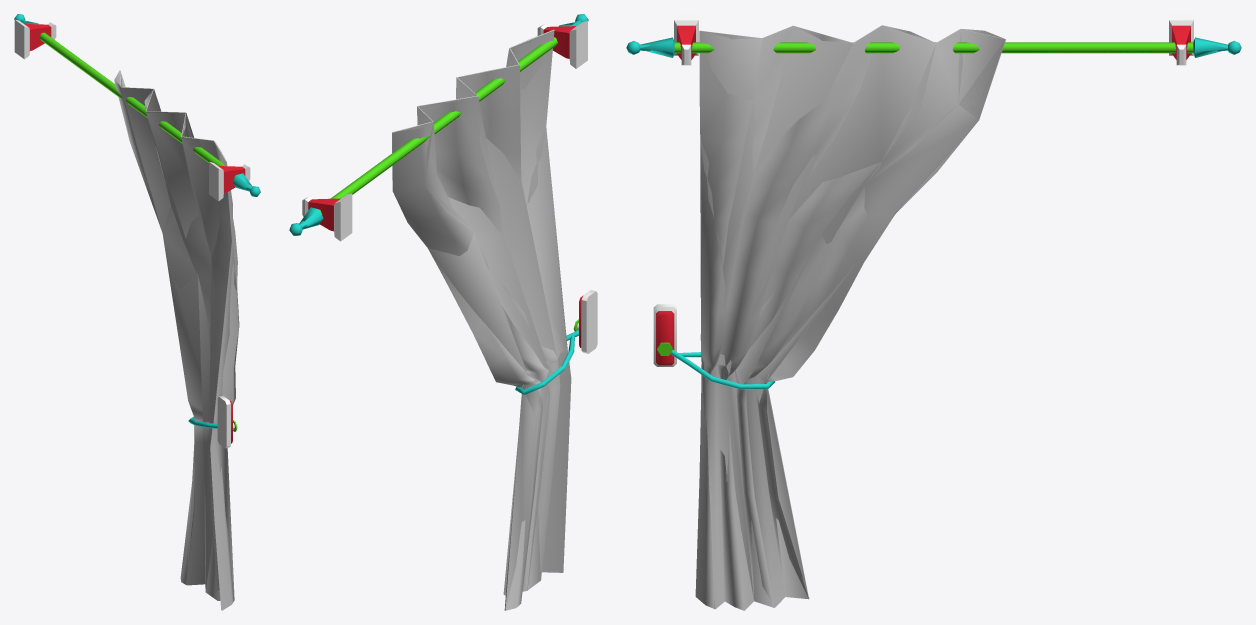
File: WallDeco00.fbx
3 views of the same model, side by side, from view 1: azimuth 30°, elevation 25°; view 2: azimuth 150°, elevation 25°; view 3: azimuth 270°, elevation 25° (orthographic). The views are drawn at different scales.
Visible parts, largest first — view 1: Plane004, Plane005, Box118, Box120, Box119; view 2: Plane004, Plane005, Box118, Box120, Box119; view 3: Plane004, Plane005, Box118, Box120, Box119.
Part boxes in pixels (x1,y1,x2,y2): Plane004: (114,70,239,610); Plane005: (119,70,238,600); Box118: (14,14,260,201); Box120: (14,19,252,200); Box119: (188,396,237,448); Plane004: (392,30,571,610); Plane005: (392,29,567,610); Box118: (289,14,588,241); Box120: (299,21,585,236); Box119: (515,290,597,394); Plane004: (695,25,1005,610); Plane005: (699,25,1005,609); Box118: (626,14,1241,65); Box120: (640,14,1227,65); Box119: (653,304,774,389).
Bounding box in the file's own units: 3.44 × 28.17 × 27.3.
